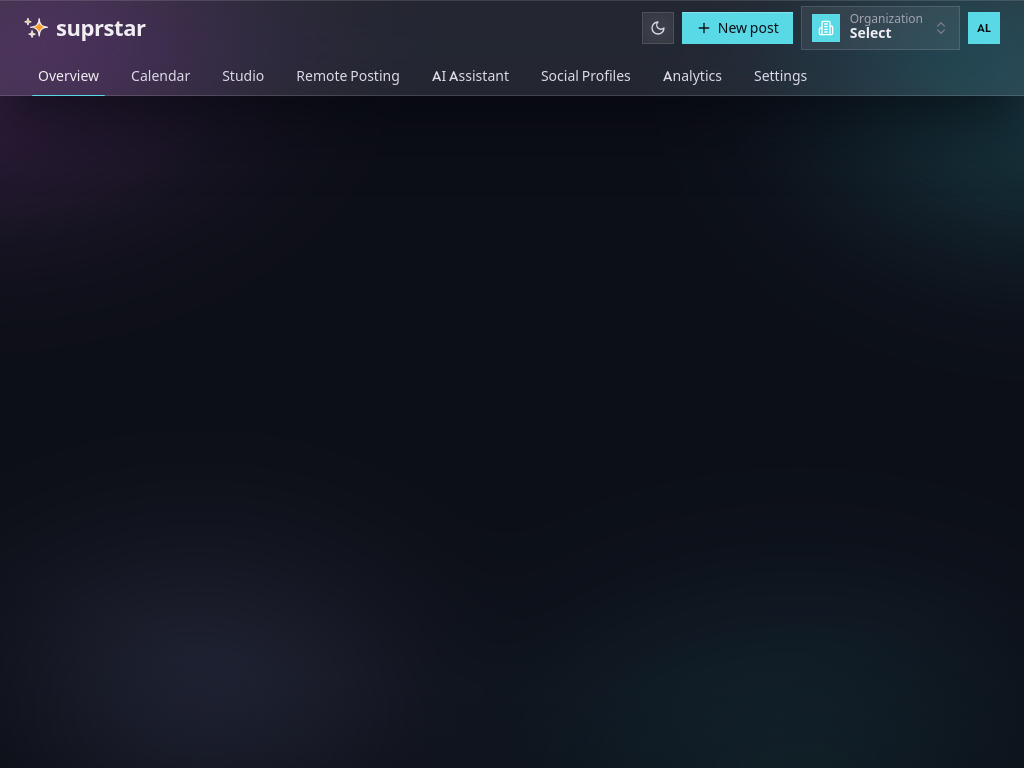
TopNav › shows the signed-in user's name and role in the account menu
Click the button with test id "user-menu-trigger".
click(984, 28)  # box x1=968 y1=12 x2=1000 y2=44
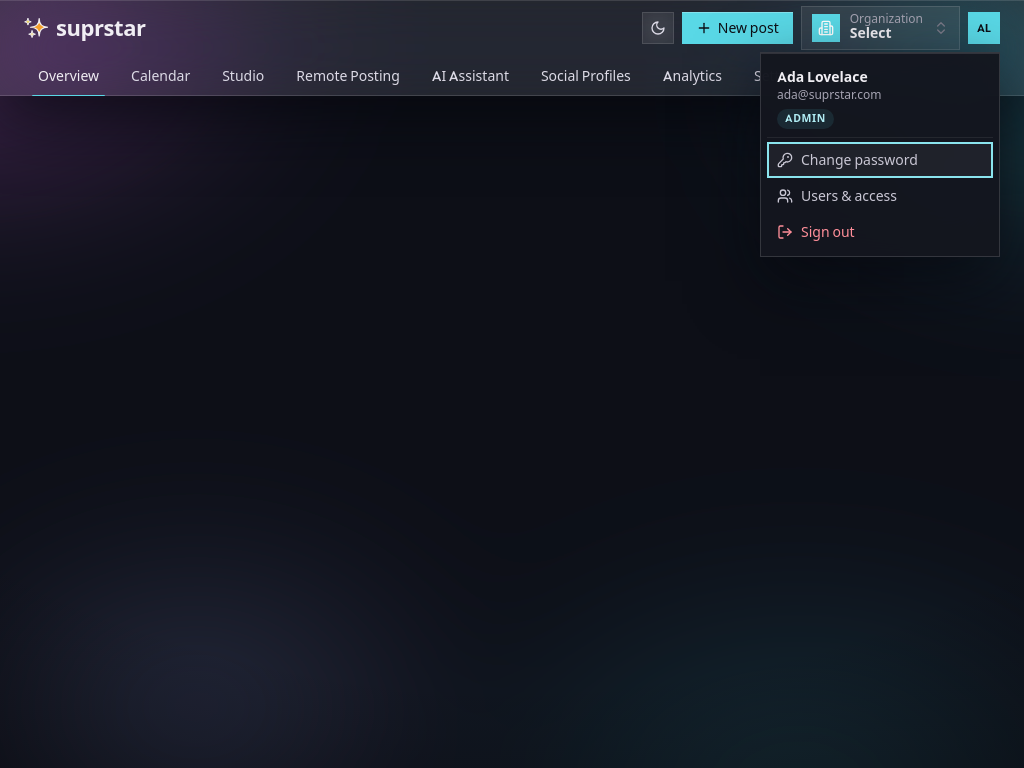
Check: the element with test id "user-menu" shows "Ada Lovelace", box x1=777 y1=68 x2=868 y2=86
Check: the element with test id "user-menu" shows "ada@suprstar.com", box x1=777 y1=87 x2=881 y2=102
Check: the element with test id "user-menu" shows "admin", box x1=785 y1=111 x2=826 y2=125
